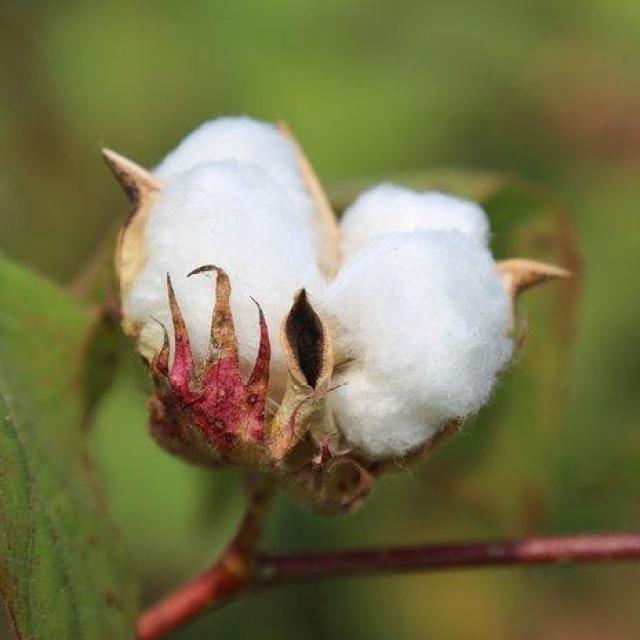Leaf: (90, 105, 590, 524)
